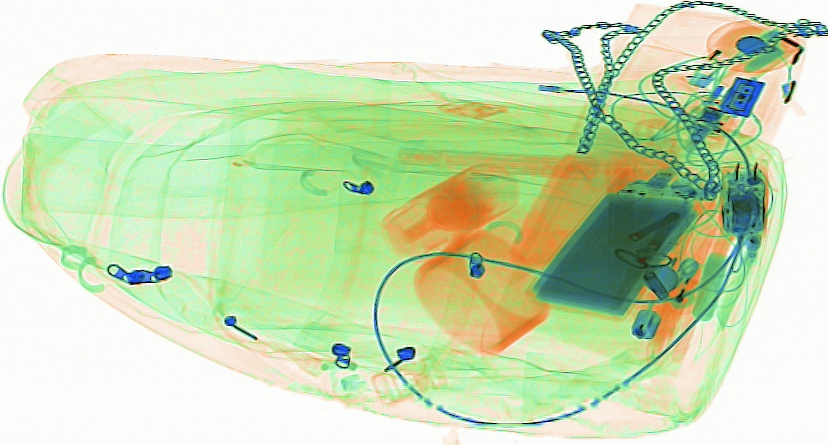lighter: (642, 254, 703, 353), (683, 17, 760, 89)
